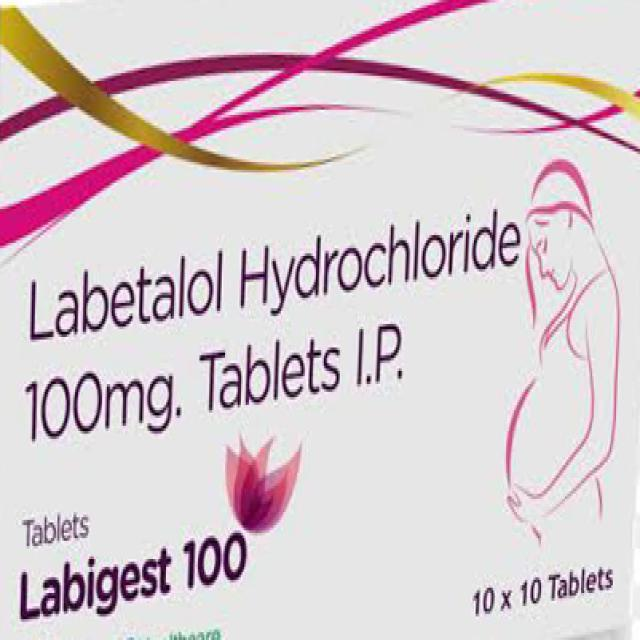drug-name: (15, 526, 254, 636)
